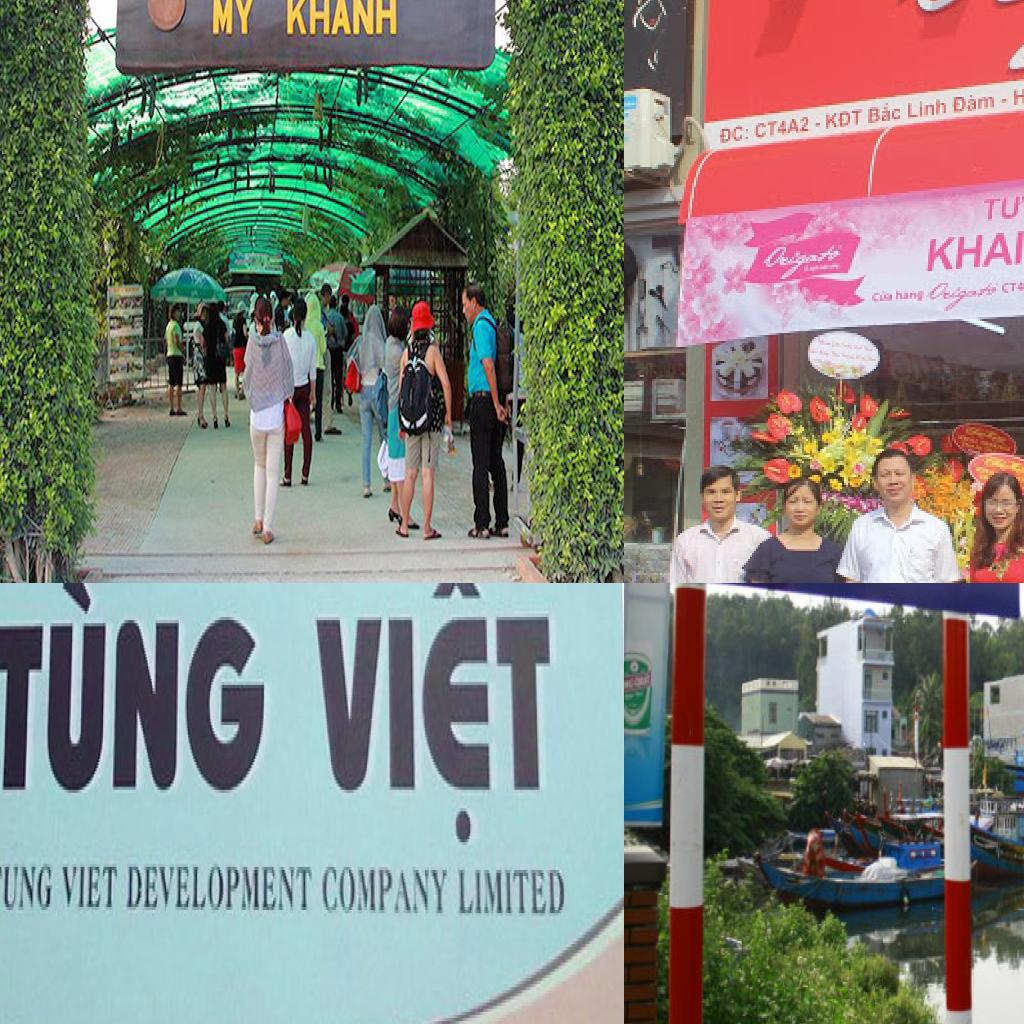text: (306, 583, 556, 854), (0, 583, 273, 802), (125, 858, 315, 919), (320, 858, 450, 926), (457, 864, 568, 922), (754, 235, 854, 291), (285, 0, 400, 41), (924, 229, 1024, 275), (59, 861, 120, 916), (0, 860, 55, 919), (928, 279, 1004, 315), (754, 113, 814, 145), (210, 0, 257, 39), (980, 189, 1024, 225), (950, 87, 998, 119), (820, 103, 870, 133), (906, 93, 952, 123), (714, 119, 754, 147), (868, 101, 904, 129), (896, 285, 928, 305), (1000, 275, 1024, 299), (1010, 75, 1024, 113), (868, 287, 894, 305)
